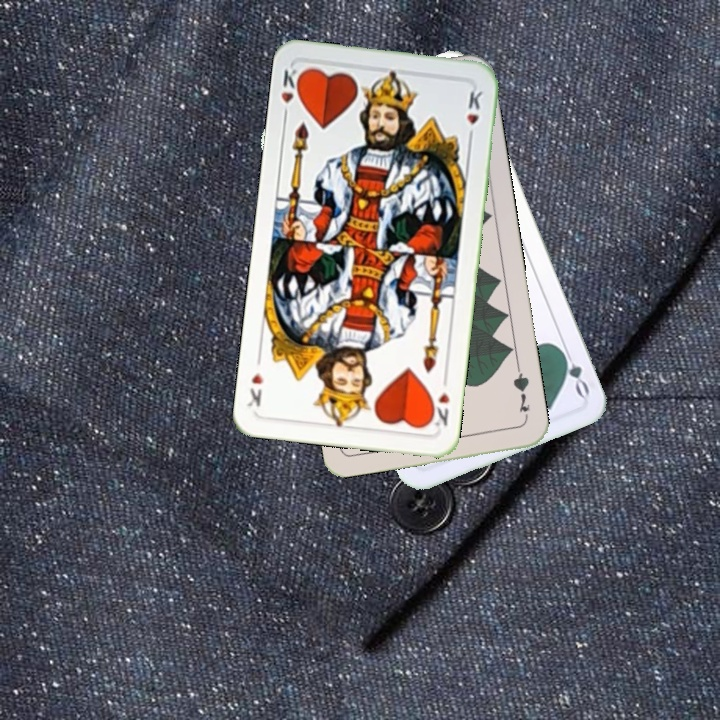G7: (509, 364, 533, 423)
GO: (555, 342, 592, 400)
HK: (277, 65, 306, 122), (425, 388, 453, 432)
